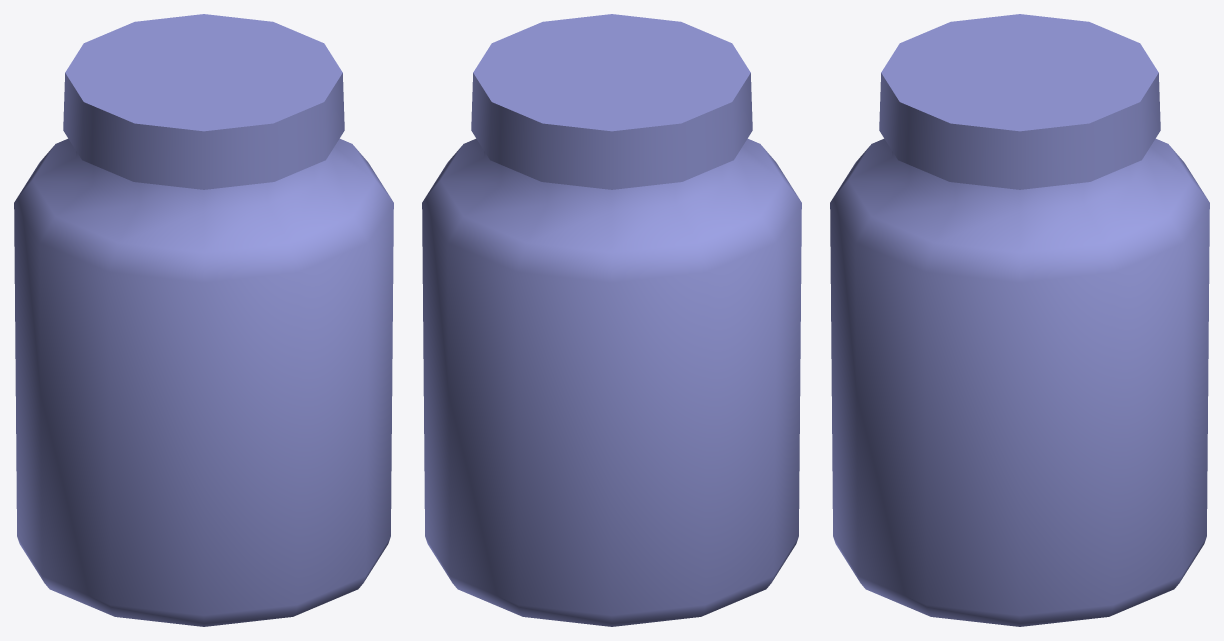
Rendered from MedicineBottle.fbx.
The picture shows the model from 3 angles, left to right: view 1: azimuth 30°, elevation 25°; view 2: azimuth 150°, elevation 25°; view 3: azimuth 270°, elevation 25°; orthographic projection.
Visible parts, largest first — view 1: MedicineBottle; view 2: MedicineBottle; view 3: MedicineBottle.
Boxes of the visible parts, x1,y1,x2,y2 form: MedicineBottle: (14, 14, 393, 626); MedicineBottle: (422, 14, 801, 626); MedicineBottle: (830, 14, 1209, 626).
Size of the model in its own units: 8.13 by 8.13 by 11.31.
